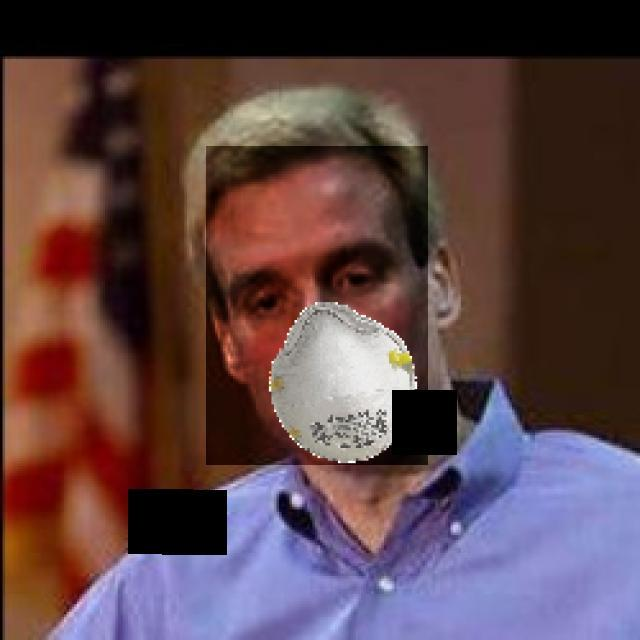n95: (207, 146, 429, 465)
